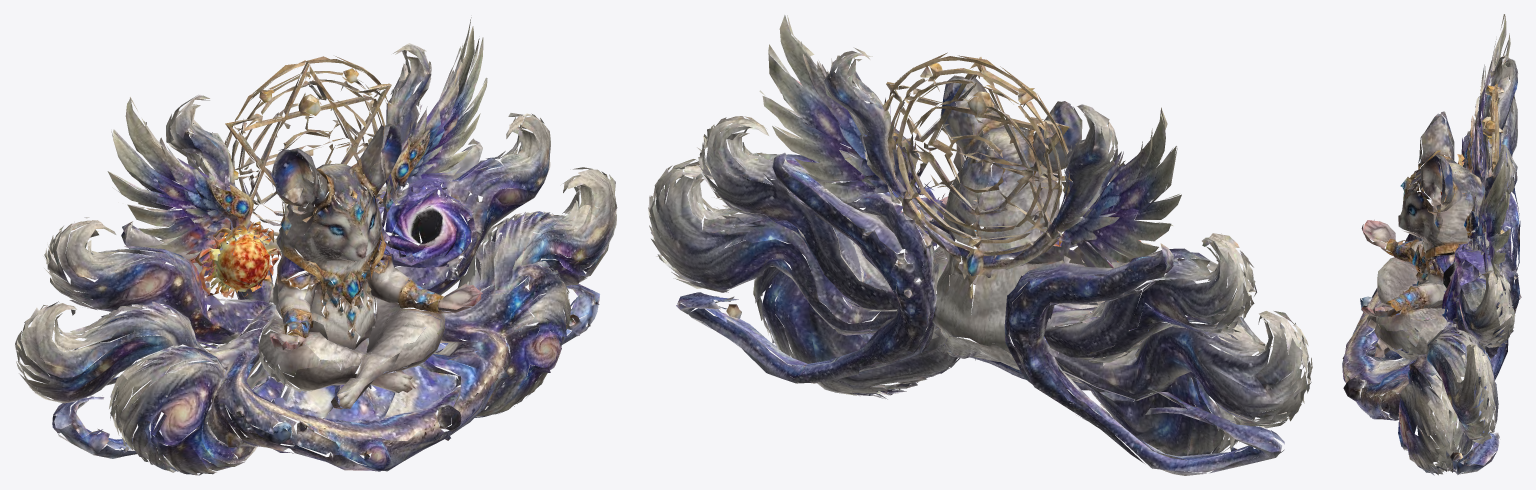
Rendered from final_ultimate_lite.glb.
3 views of the same model, side by side, from view 1: azimuth 30°, elevation 25°; view 2: azimuth 150°, elevation 25°; view 3: azimuth 270°, elevation 25° (orthographic). The views are drawn at different scales.
Visible parts, largest first — view 1: geometry_0; view 2: geometry_0; view 3: geometry_0.
Part boxes in pixels (<box>): geometry_0: <box>15,17,617,475</box>; geometry_0: <box>648,15,1312,475</box>; geometry_0: <box>1342,14,1521,475</box>.
Size of the model in its own units: 1.9 by 1.11 by 0.5684.
1 material, 1 textured.
